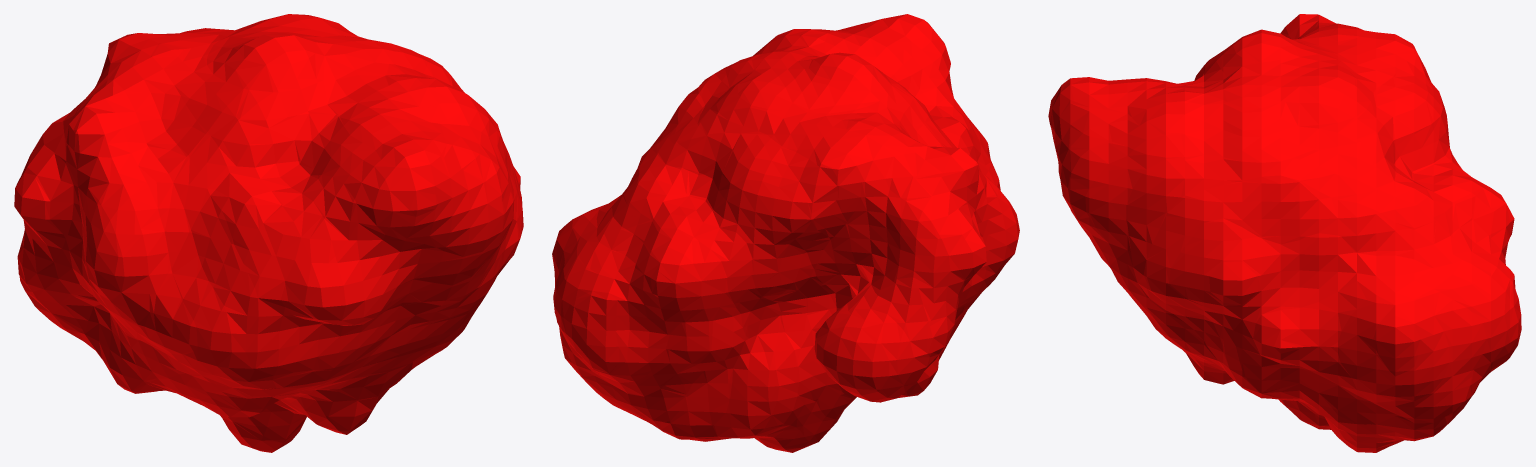
The model's file is ybaL_coarse.dae.
3 renders of one model, left to right at view 1: azimuth 30°, elevation 25°; view 2: azimuth 150°, elevation 25°; view 3: azimuth 270°, elevation 25°, orthographic. The views are drawn at different scales.
Parts seen in each view (by area): view 1: ybaL; view 2: ybaL; view 3: ybaL.
Boxes of the visible parts, box(x1,y1,x2,y2) form: ybaL: box(14, 14, 523, 452); ybaL: box(552, 14, 1019, 452); ybaL: box(1048, 14, 1521, 452).
Size of the model in its own units: 64.91 by 57.84 by 64.98.
